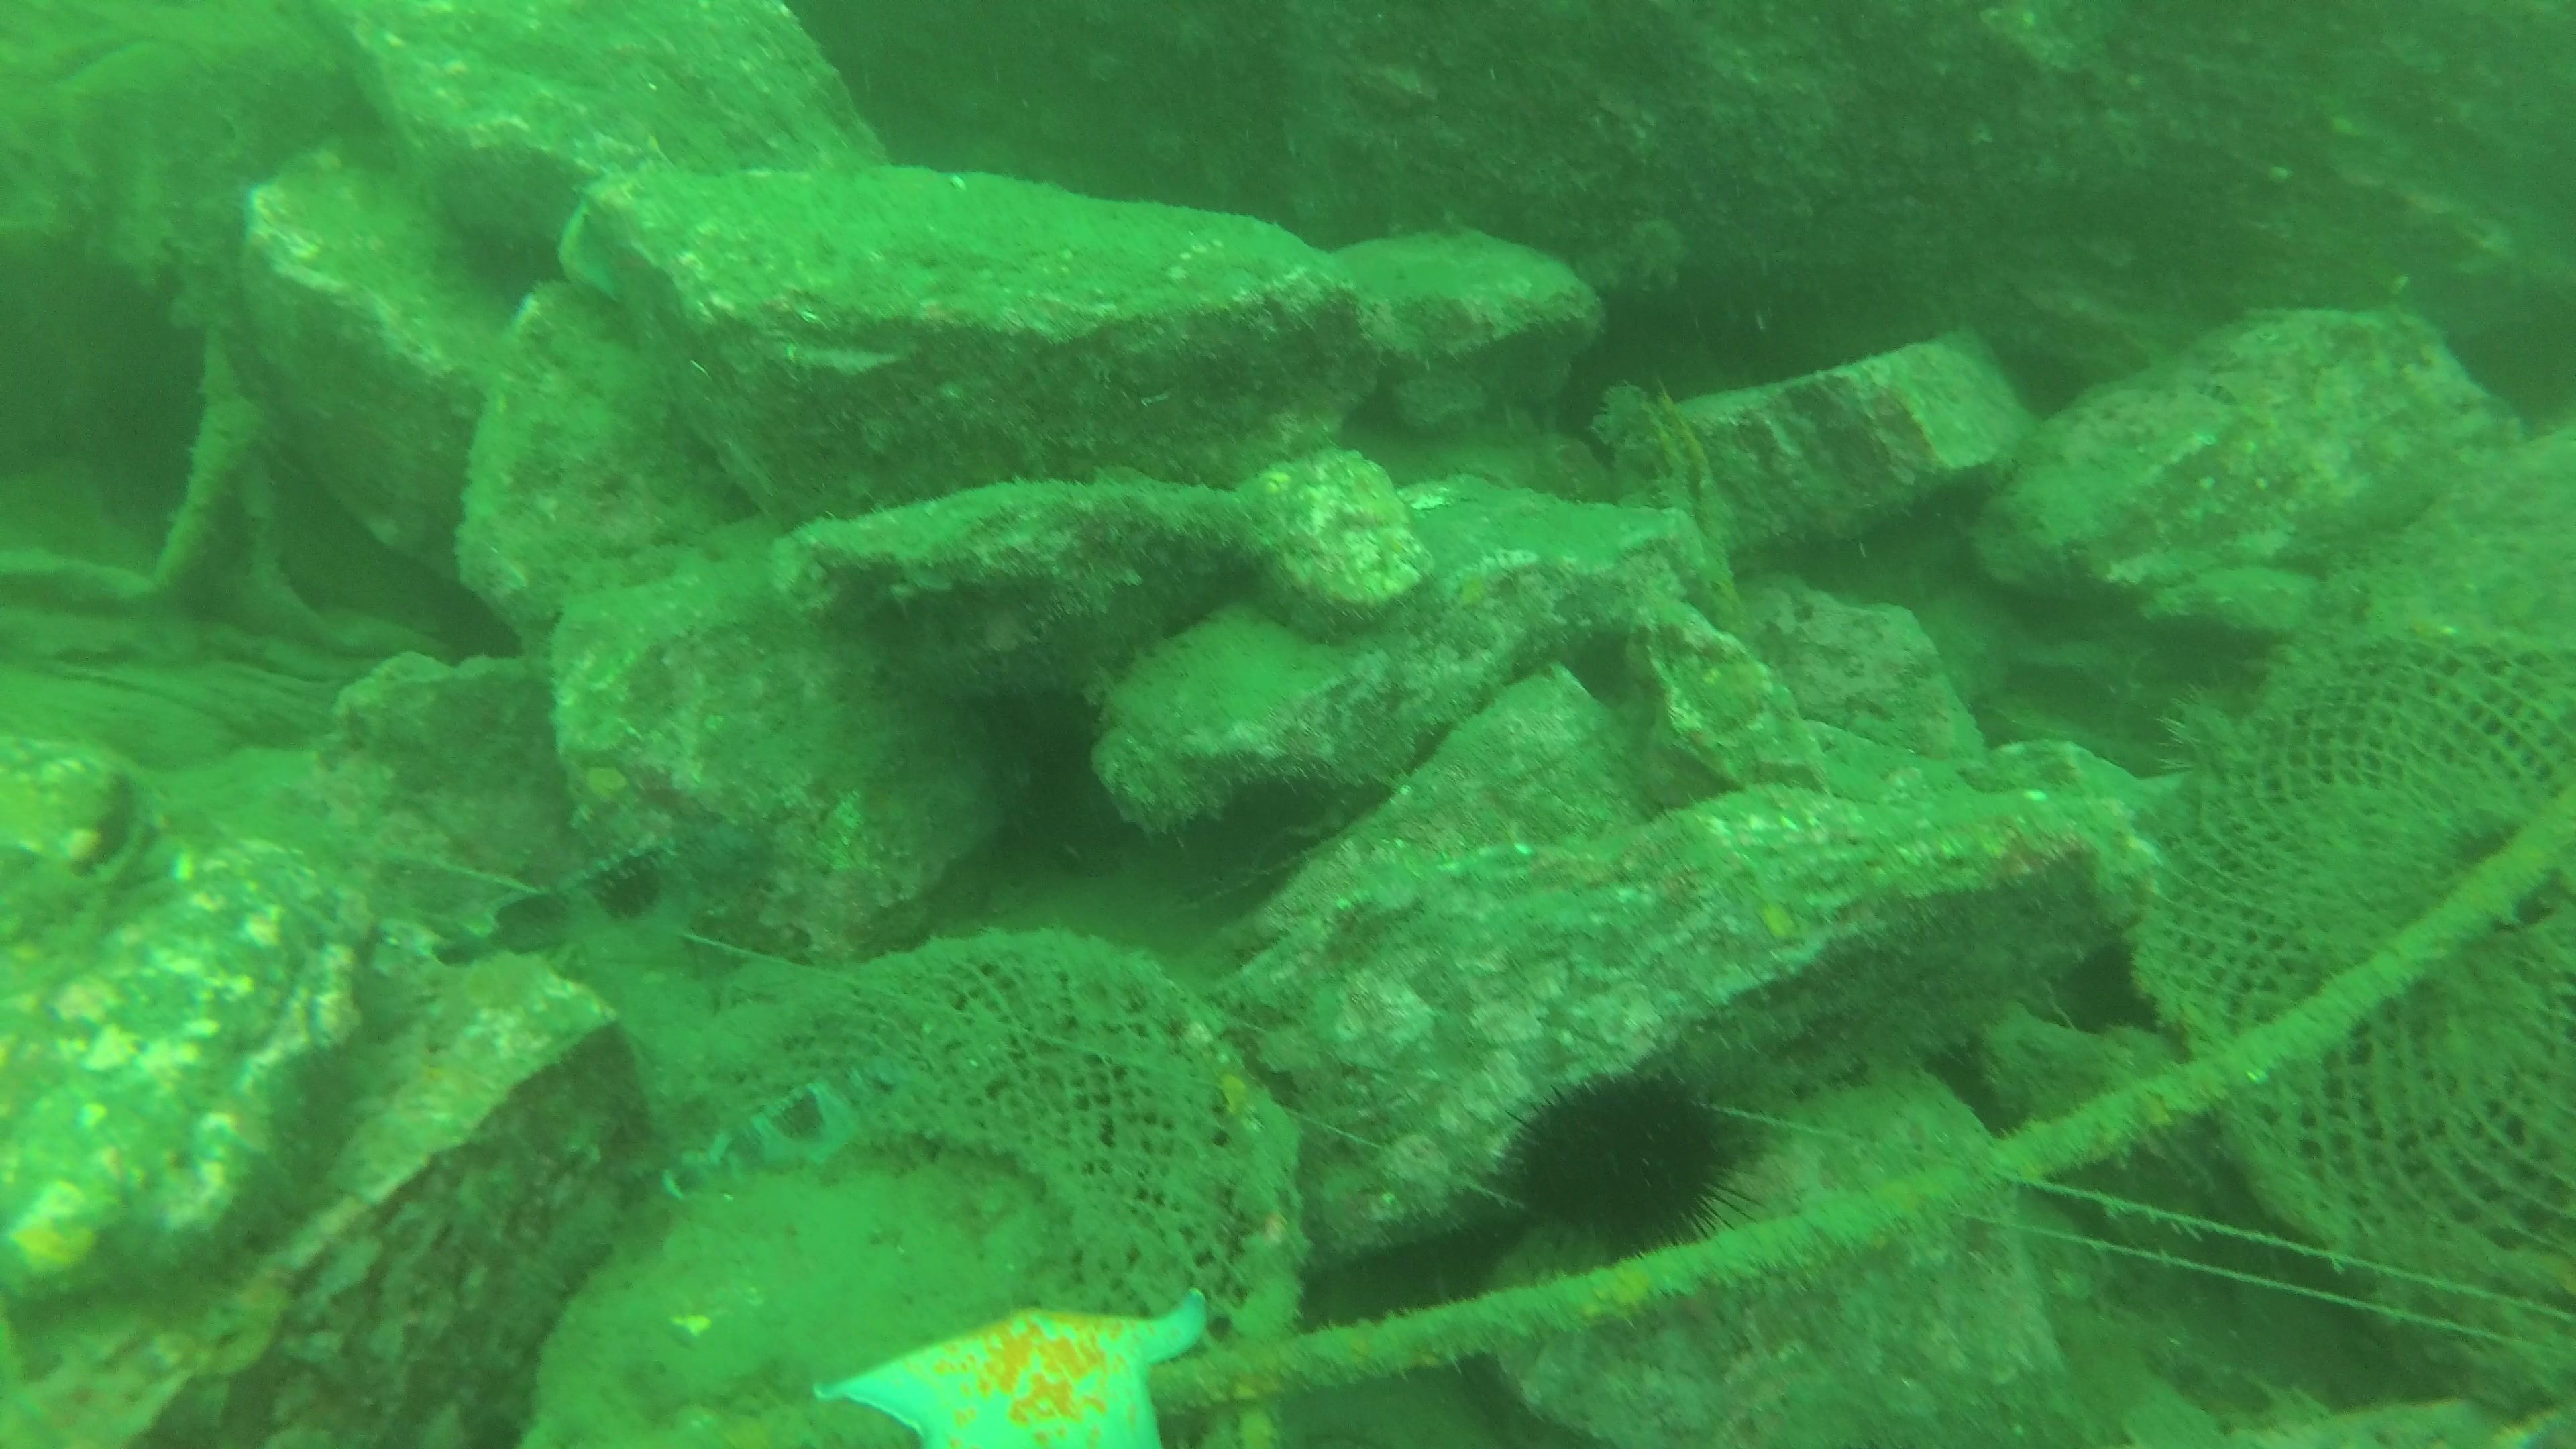echinus: (1504, 1070, 1760, 1270)
starfish: (801, 1292, 1214, 1449)
